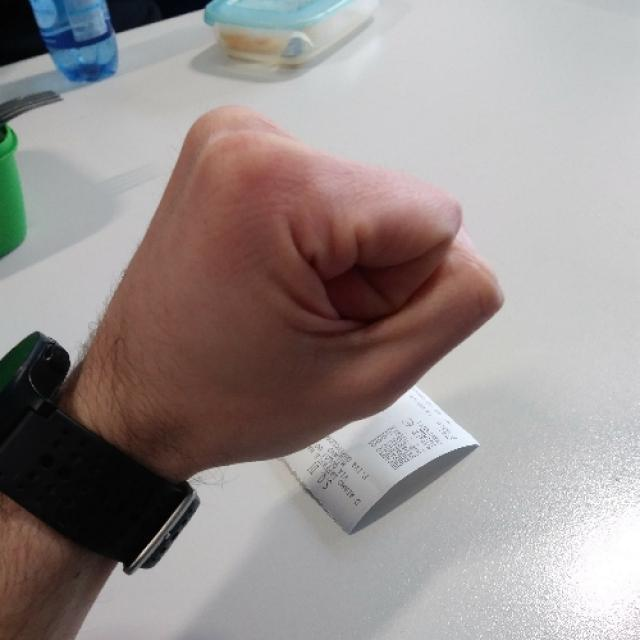fist: (74, 94, 516, 473)
